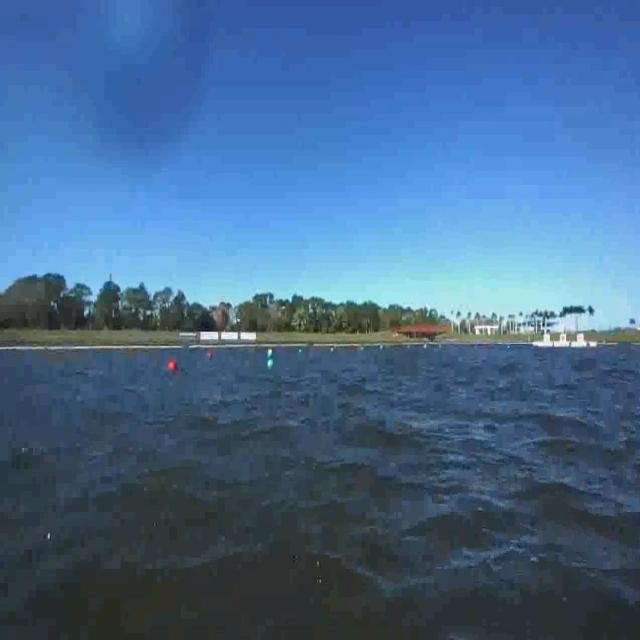green-buoy: (265, 357, 277, 377)
red-buoy: (169, 358, 177, 372), (209, 348, 214, 360)
